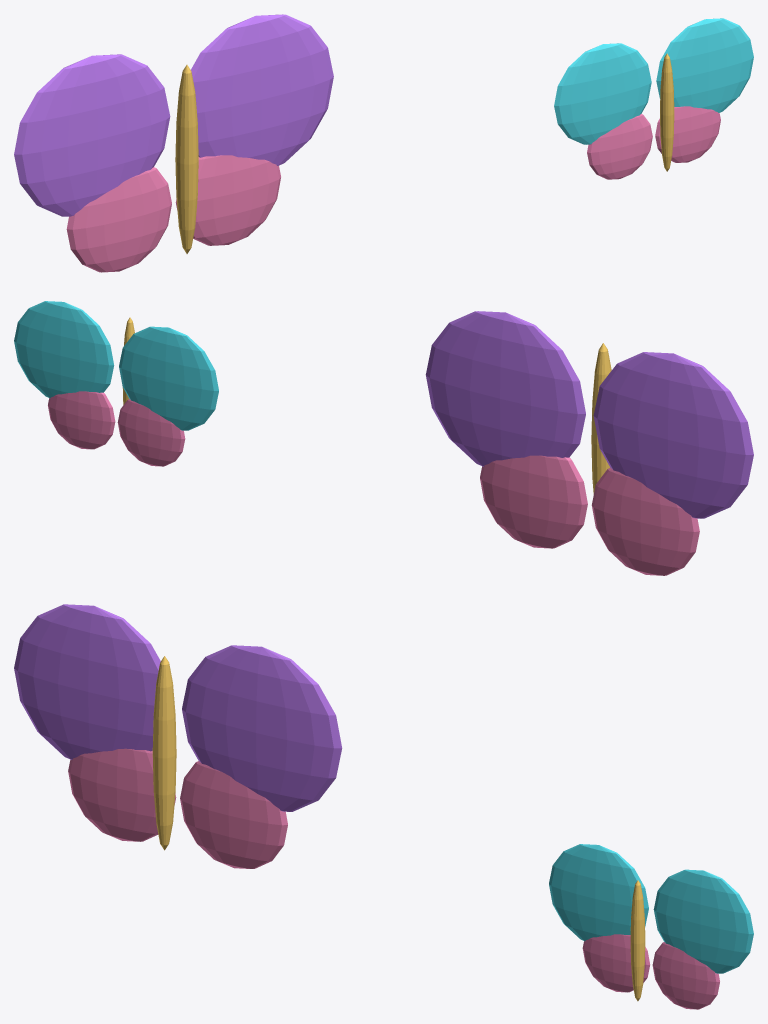
The model's file is butterfly-hair.glb.
3 renders of one model, top to bottom at view 1: azimuth 30°, elevation 25°; view 2: azimuth 150°, elevation 25°; view 3: azimuth 330°, elevation 25°, orthographic. The views are drawn at different scales.
Parts seen in each view (by area): view 1: upper wing (×4), lower wing (×4), butterfly body (×2); view 2: upper wing (×4), lower wing (×4), butterfly body; view 3: upper wing (×4), lower wing (×4), butterfly body (×2).
Part boxes in pixels (bbox=[...]): upper wing (×4): bbox=[14, 14, 753, 216]; lower wing (×4): bbox=[66, 106, 720, 272]; butterfly body (×2): bbox=[175, 53, 674, 253]; upper wing (×4): bbox=[14, 301, 753, 518]; lower wing (×4): bbox=[48, 391, 699, 575]; butterfly body: bbox=[591, 343, 611, 494]; upper wing (×4): bbox=[14, 604, 753, 973]; lower wing (×4): bbox=[68, 748, 719, 1009]; butterfly body (×2): bbox=[152, 656, 645, 1001].
Size of the model in its own units: 2.25 by 0.7155 by 0.1718.
